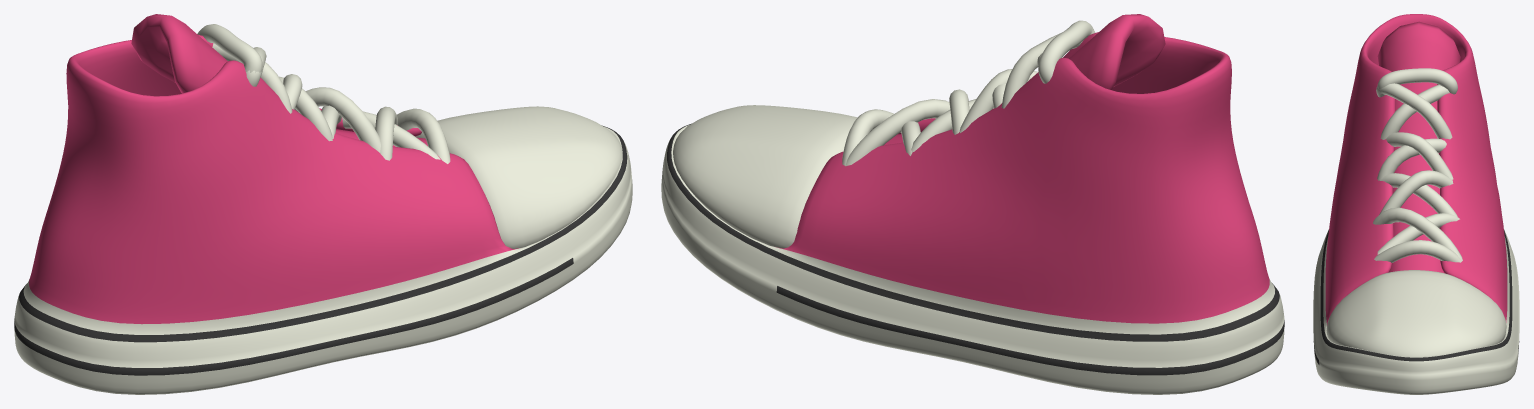
The model's file is sneaker.fbx.
3 views of the same model, side by side, from view 1: azimuth 30°, elevation 25°; view 2: azimuth 150°, elevation 25°; view 3: azimuth 270°, elevation 25° (orthographic). The views are drawn at different scales.
Parts seen in each view (by area): view 1: Shoe, Front, Laces, Shoe Tongue; view 2: Shoe, Front, Laces, Shoe Tongue; view 3: Shoe, Front, Laces, Shoe Tongue.
Boxes of the visible parts, <box> form: Shoe: <box>14,34,632,394</box>; Front: <box>415,106,622,248</box>; Laces: <box>197,24,450,163</box>; Shoe Tongue: <box>131,14,427,146</box>; Shoe: <box>661,32,1284,394</box>; Front: <box>673,105,857,248</box>; Laces: <box>842,20,1095,166</box>; Shoe Tongue: <box>884,14,1165,145</box>; Shoe: <box>1313,14,1519,394</box>; Front: <box>1326,270,1506,356</box>; Laces: <box>1373,68,1462,262</box>; Shoe Tongue: <box>1377,21,1460,273</box>.
Bounding box in the file's own units: 502 × 262 × 198.
